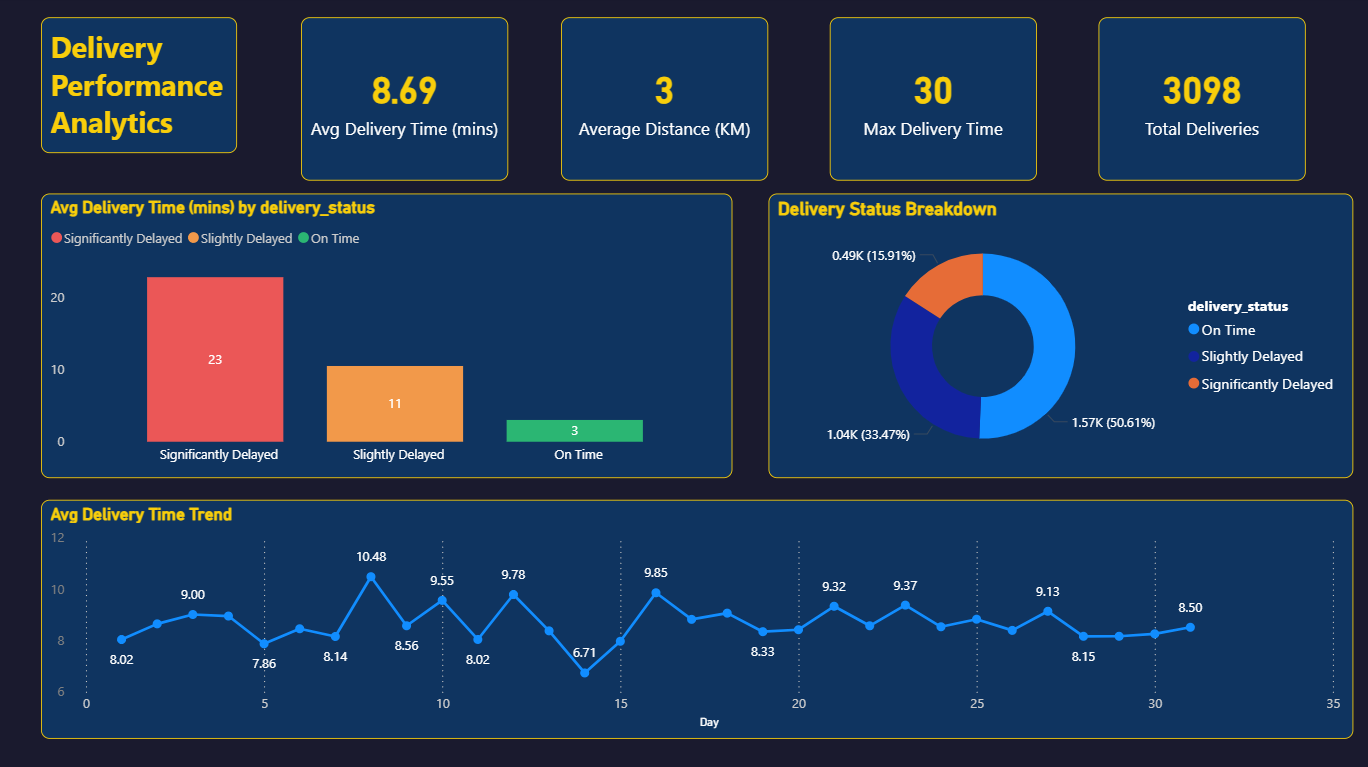

What the dashboard file says about the page in this screenshot:
{"tool":"powerbi","page":{"name":"Delivery Performance Analytics","canvas":[1280,720],"ordinal":2},"visuals":[{"type":"card","fields":{"Values":["_Measures.Avg Delivery Time (mins)"]},"box":[283.7,19.8,193,152.3],"z":0},{"type":"card","fields":{"Values":["_Measures.Delivery Partners"]},"box":[525.6,19.8,193,152.3],"z":1000},{"type":"card","fields":{"Values":["_Measures.Max Delivery Time"]},"box":[775.6,19.8,193,152.3],"z":2000},{"type":"card","fields":{"Values":["_Measures.Total Deliveries"]},"box":[1025.6,19.8,193,152.3],"z":3000},{"type":"donutChart","title":"Delivery Status Breakdown","fields":{"Category":["delivery_performance.delivery_status"],"Y":["CountNonNull(delivery_performance.order_id)"]},"box":[718.6,183.7,544.2,265.1],"z":4000},{"type":"columnChart","title":"Avg Delivery Time (mins) by delivery_status ","fields":{"Category":["delivery_performance.delivery_status"],"Y":["_Measures.Avg Delivery Time (mins)"],"Series":["delivery_performance.delivery_status"]},"box":[41.9,183.7,643,265.1],"z":5000},{"type":"lineChart","title":"Avg Delivery Time Trend","fields":{"Category":["delivery_performance.actual_time.Variation.Date Hierarchy.Day"],"Y":["Avg(delivery_performance.delivery_time_minutes)"]},"box":[41.9,468.6,1220.9,222.1],"z":6000},{"type":"textbox","box":[41.9,19.8,182.6,126.7],"z":7000}]}

Visuals, with their boxes in screenshot pixels (x1, y1, x2, y2), scaled from the page's 1280x720 canvas onto the 1368x767 screenshot:
card - _Measures.Avg Delivery Time (mins): {"x1": 303, "y1": 21, "x2": 509, "y2": 183}
card - _Measures.Delivery Partners: {"x1": 562, "y1": 21, "x2": 768, "y2": 183}
card - _Measures.Max Delivery Time: {"x1": 829, "y1": 21, "x2": 1035, "y2": 183}
card - _Measures.Total Deliveries: {"x1": 1096, "y1": 21, "x2": 1302, "y2": 183}
"Delivery Status Breakdown" donutChart: {"x1": 768, "y1": 196, "x2": 1350, "y2": 478}
"Avg Delivery Time (mins) by delivery_status " columnChart: {"x1": 45, "y1": 196, "x2": 732, "y2": 478}
"Avg Delivery Time Trend" lineChart: {"x1": 45, "y1": 499, "x2": 1350, "y2": 736}
textbox: {"x1": 45, "y1": 21, "x2": 240, "y2": 156}
